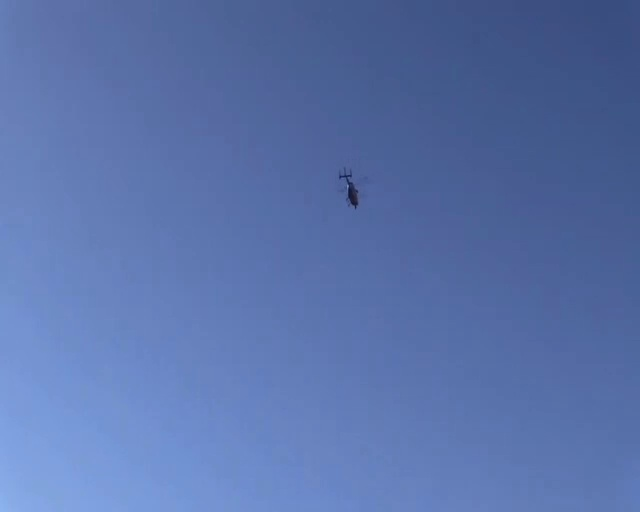HELICOPTER: (337, 166, 369, 209)
